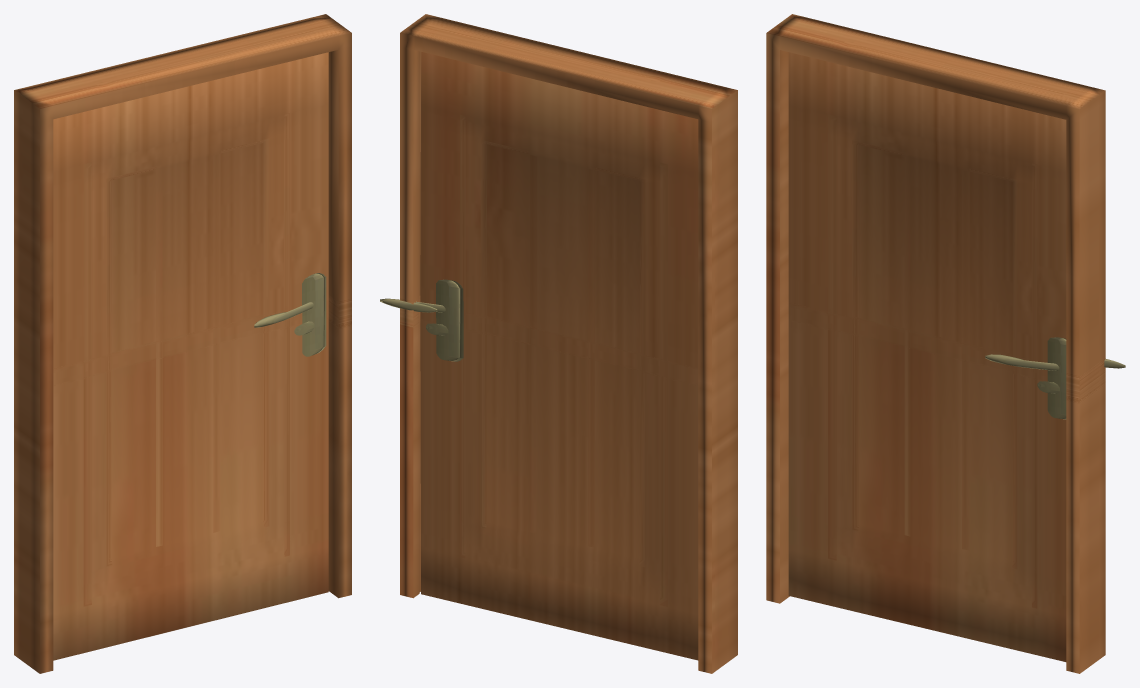
Rendered from Door.fbx.
3 renders of one model, left to right at view 1: azimuth 30°, elevation 25°; view 2: azimuth 150°, elevation 25°; view 3: azimuth 330°, elevation 25°, orthographic.
Visible parts, largest first — view 1: DoorBoddy, OutBoddy, Locker.001; view 2: DoorBoddy, OutBoddy, Locker; view 3: DoorBoddy, OutBoddy, Locker.001.
Boxes of the visible parts, x1=… form: DoorBoddy: x1=53, y1=52, x2=328, y2=660; OutBoddy: x1=14, y1=14, x2=351, y2=673; Locker.001: x1=254, y1=273, x2=326, y2=356; DoorBoddy: x1=420, y1=51, x2=698, y2=660; OutBoddy: x1=400, y1=14, x2=737, y2=673; Locker: x1=380, y1=279, x2=463, y2=361; DoorBoddy: x1=788, y1=52, x2=1066, y2=661; OutBoddy: x1=766, y1=14, x2=1105, y2=673; Locker.001: x1=985, y1=337, x2=1066, y2=419.
Bounding box in the file's own units: 761 × 1242 × 109.
Materials: 7 (7 with a texture image).
